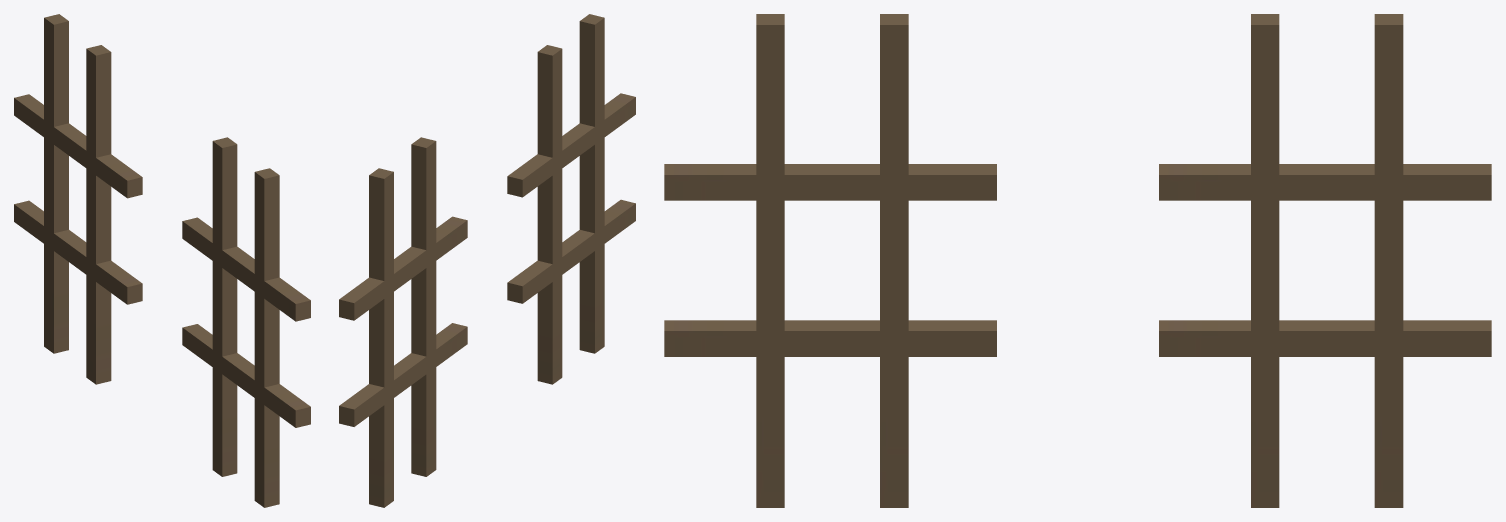
The model's file is window(2).fbx.
3 renders of one model, left to right at view 1: azimuth 30°, elevation 25°; view 2: azimuth 150°, elevation 25°; view 3: azimuth 270°, elevation 25°, orthographic. The views are drawn at different scales.
Visible parts, largest first — view 1: window(2); view 2: window(2); view 3: window(2).
Part boxes in pixels (x1,y1,x2,y2): window(2): (14, 14, 310, 507); window(2): (339, 14, 635, 507); window(2): (664, 14, 1491, 507).
Bounding box in the file's own units: 7.13 × 148 × 230.
